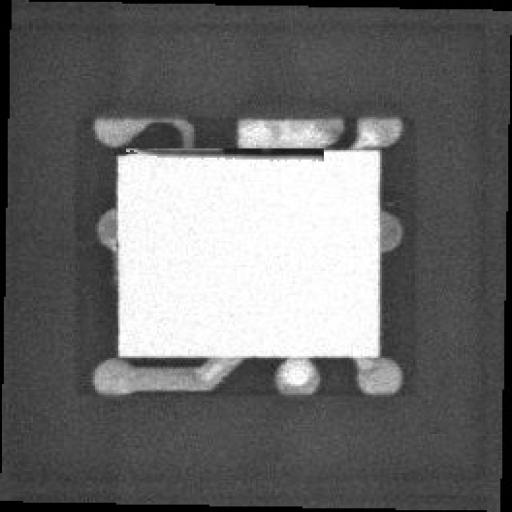DIE_BROKEN: (136, 141, 328, 161)
